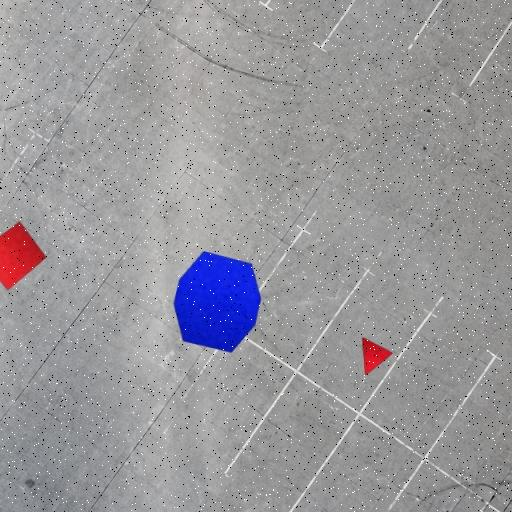RED_SQUARE: (0, 221, 47, 291)
